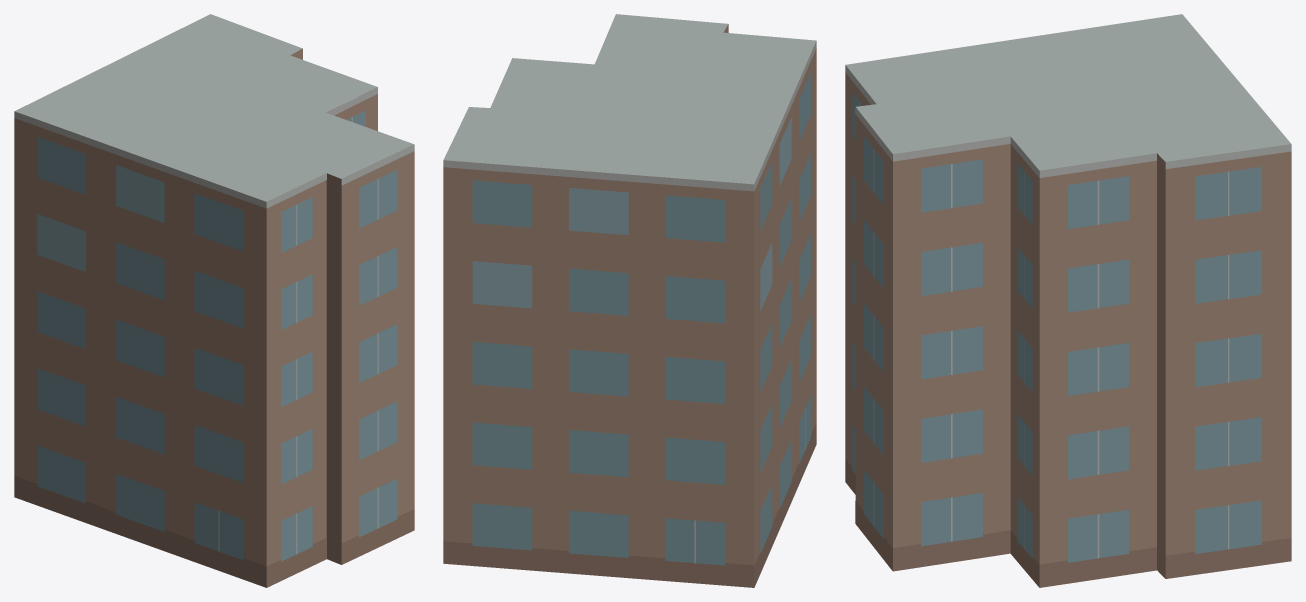
The model's file is survey-upis-32713469.glb.
The picture shows the model from 3 angles, left to right: view 1: azimuth 30°, elevation 25°; view 2: azimuth 150°, elevation 25°; view 3: azimuth 270°, elevation 25°; orthographic projection. The views are drawn at different scales.
Parts seen in each view (by area): view 1: survey-upis-32713469.tmp; view 2: survey-upis-32713469.tmp; view 3: survey-upis-32713469.tmp.
Boxes of the visible parts, box(x1,y1,x2,y2) form: survey-upis-32713469.tmp: box(14, 14, 414, 587); survey-upis-32713469.tmp: box(443, 14, 816, 587); survey-upis-32713469.tmp: box(845, 14, 1291, 587).
Bounding box in the file's own units: 11.26 × 13.95 × 13.54.
